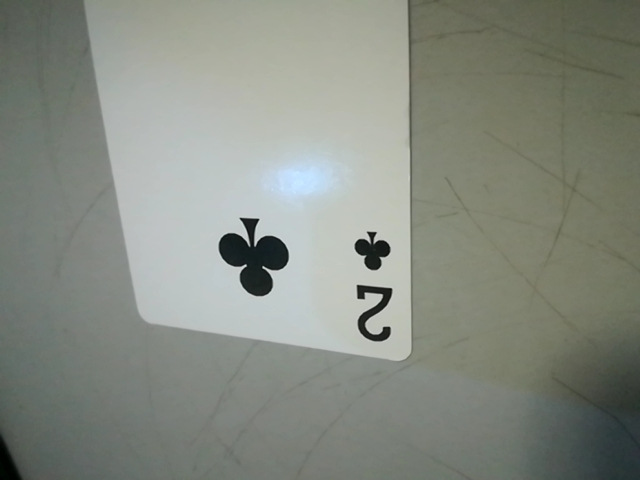mh 2: (341, 220, 408, 357)
